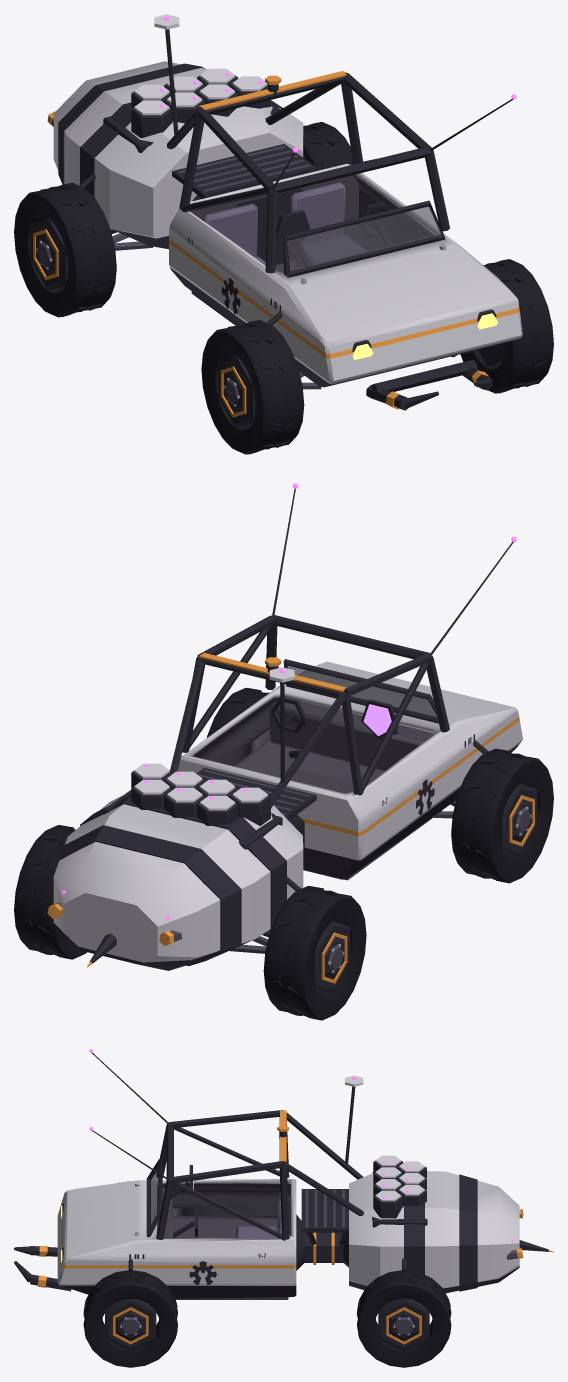
The model's file is r41_raider.glb.
3 views of the same model, one above another, from view 1: azimuth 30°, elevation 25°; view 2: azimuth 150°, elevation 25°; view 3: azimuth 270°, elevation 25° (orthographic). The views are drawn at different scales.
Parts seen in each view (by area): view 1: body_light, body_shell, wheel_FR, wheel_RR, wheel_FL, body_polymer, body_glass, body_ceramic, body_metal, wheel_RL, body_amber; view 2: body_light, body_shell, wheel_FR, wheel_RR, body_cabin, wheel_RL, body_ceramic, body_glass, body_amber, body_metal, wheel_FL; view 3: body_light, body_shell, wheel_FL, wheel_RL, body_ceramic, body_amber, body_metal, body_cabin, body_polymer, body_glass, body_decals.
Boxes of the visible parts, box(x1,y1,x2,y2) form: body_light: box(53, 61, 522, 387); body_shell: box(58, 29, 513, 410); wheel_FR: box(201, 320, 304, 454); wheel_RR: box(14, 182, 116, 317); wheel_FL: box(460, 259, 553, 393); body_polymer: box(203, 182, 366, 271); body_glass: box(287, 206, 441, 271); body_ceramic: box(134, 14, 267, 115); body_metal: box(51, 118, 456, 389); wheel_RL: box(303, 122, 353, 170); body_amber: box(47, 71, 488, 409); body_light: box(53, 661, 522, 970); body_shell: box(58, 488, 513, 966); wheel_FR: box(451, 748, 553, 883); wheel_RR: box(263, 886, 366, 1020); body_cabin: box(269, 697, 442, 880); wheel_RL: box(14, 825, 86, 959); body_ceramic: box(134, 667, 294, 810); body_glass: box(286, 665, 437, 718); body_amber: box(47, 652, 346, 967); body_metal: box(56, 770, 455, 953); wheel_FL: box(207, 687, 269, 737); body_light: box(57, 1171, 519, 1298); body_shell: box(14, 1053, 548, 1291); wheel_FL: box(83, 1270, 177, 1367); wheel_RL: box(357, 1270, 451, 1367); body_ceramic: box(345, 1075, 424, 1201); body_amber: box(37, 1110, 553, 1287); body_metal: box(305, 1189, 517, 1259); body_cabin: box(157, 1187, 288, 1299); body_polymer: box(236, 1191, 281, 1238); body_glass: box(149, 1165, 158, 1227); body_decals: box(129, 1253, 265, 1284).
Bounding box in the file's own units: 1.89 × 1.93 × 4.11.
